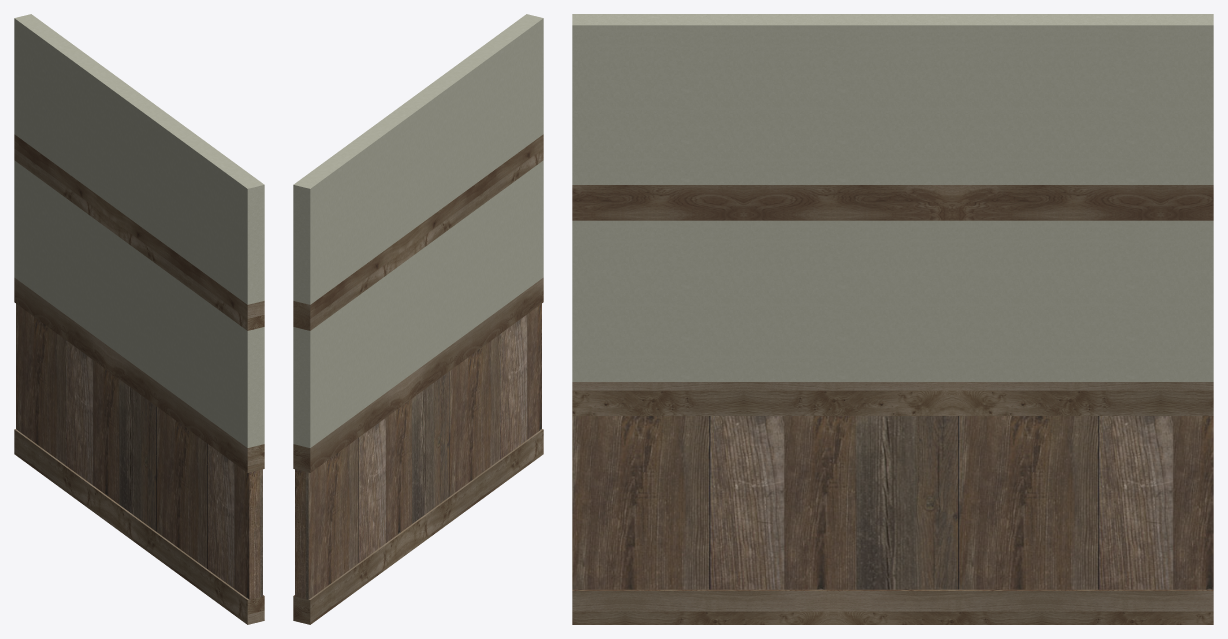
File: SM_Sun_Toilet_Wall_F.fbx
3 renders of one model, left to right at view 1: azimuth 30°, elevation 25°; view 2: azimuth 150°, elevation 25°; view 3: azimuth 270°, elevation 25°, orthographic. The views are drawn at different scales.
Visible parts, largest first — view 1: SM_Sun_Toilet_Wall_F; view 2: SM_Sun_Toilet_Wall_F; view 3: SM_Sun_Toilet_Wall_F.
Boxes of the visible parts, <box> form: SM_Sun_Toilet_Wall_F: <box>14,14,264,624</box>; SM_Sun_Toilet_Wall_F: <box>293,14,543,624</box>; SM_Sun_Toilet_Wall_F: <box>572,14,1213,624</box>.
Bounding box in the file's own units: 10 × 245 × 237.
